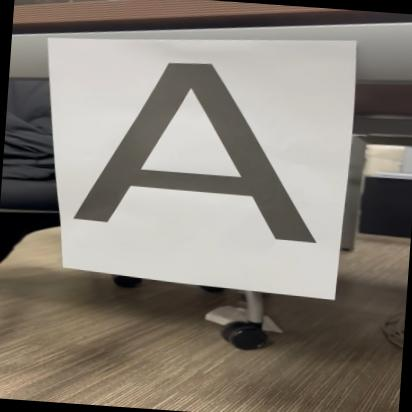seat: (62, 46, 339, 260)
